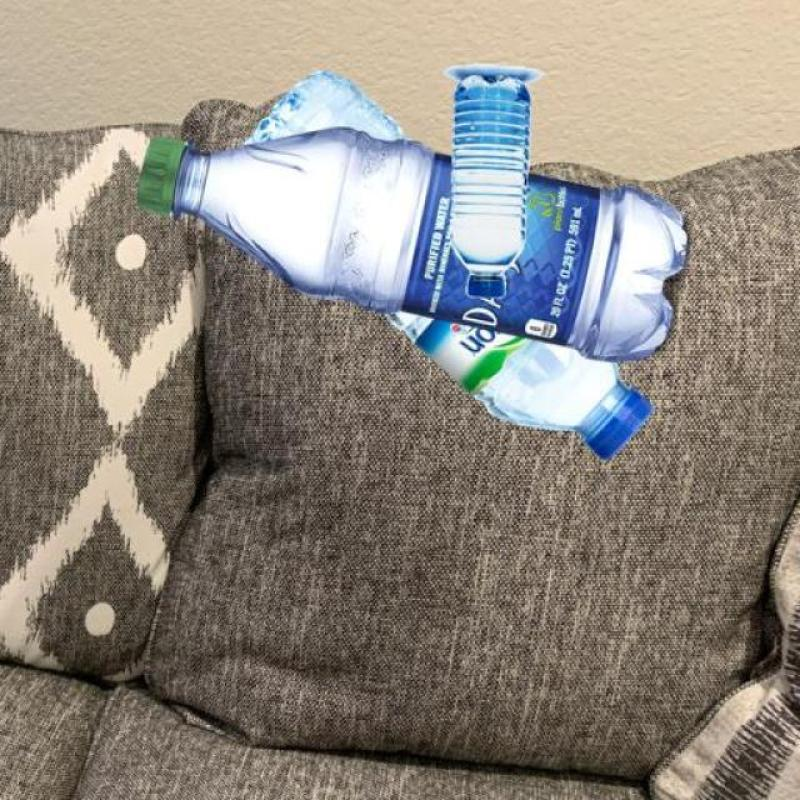botella: (235, 69, 651, 463), (140, 126, 691, 362), (443, 63, 529, 293)
